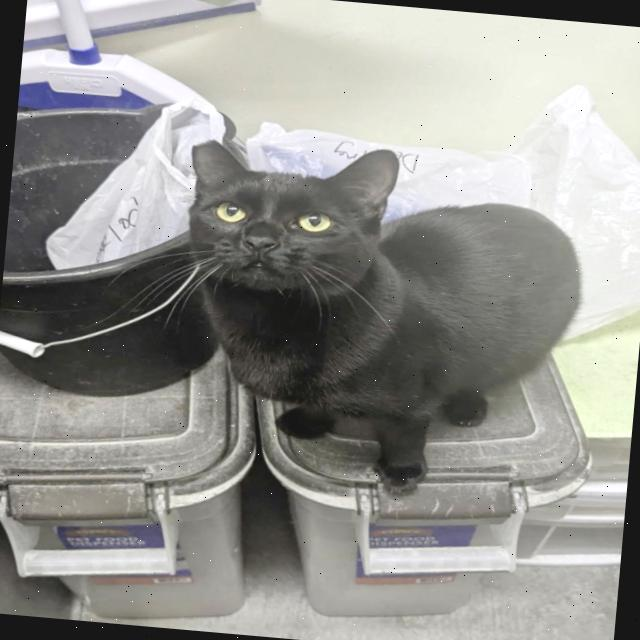bombay_cat: (161, 116, 420, 352)
